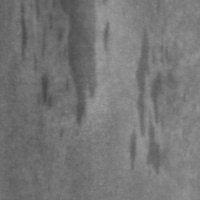inclusion: (126, 29, 179, 177), (61, 1, 115, 131), (17, 2, 65, 77), (36, 68, 58, 114)
